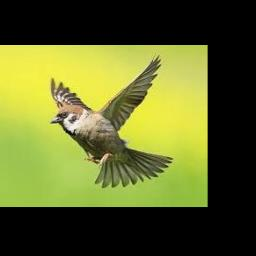Sparrow: (50, 53, 173, 188)
